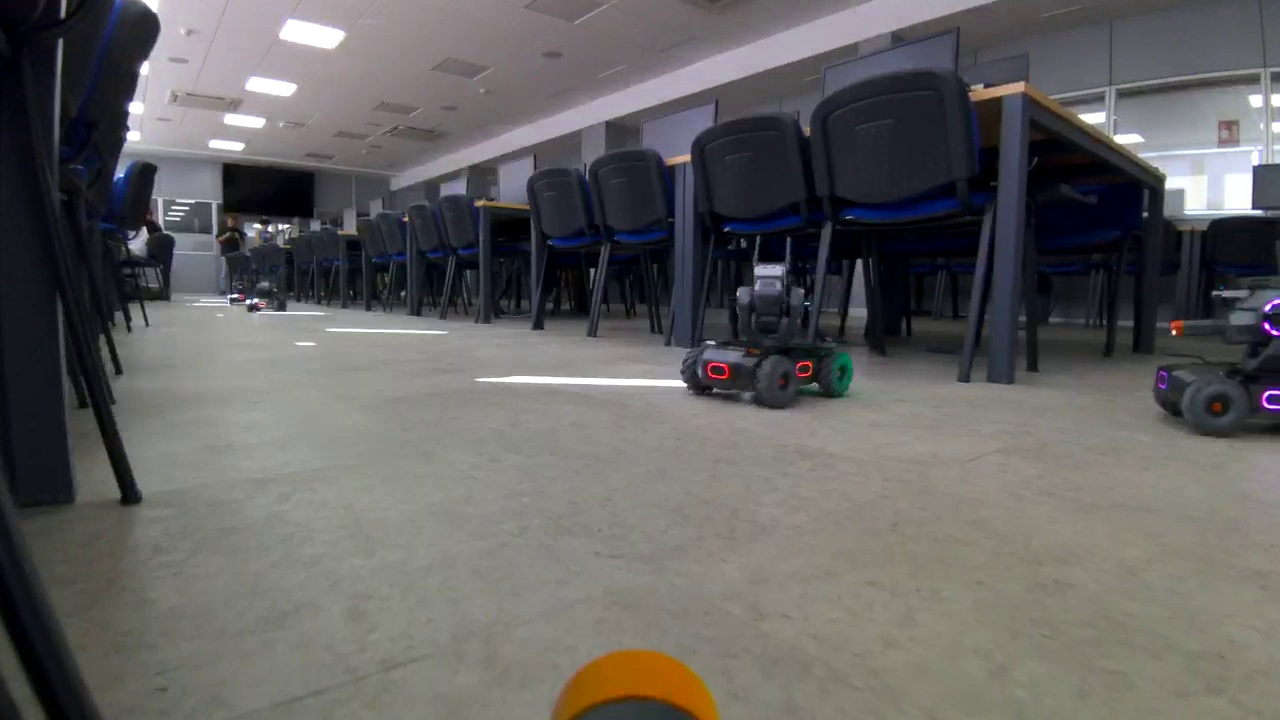robot: (686, 247, 854, 410), (1164, 278, 1280, 427)
